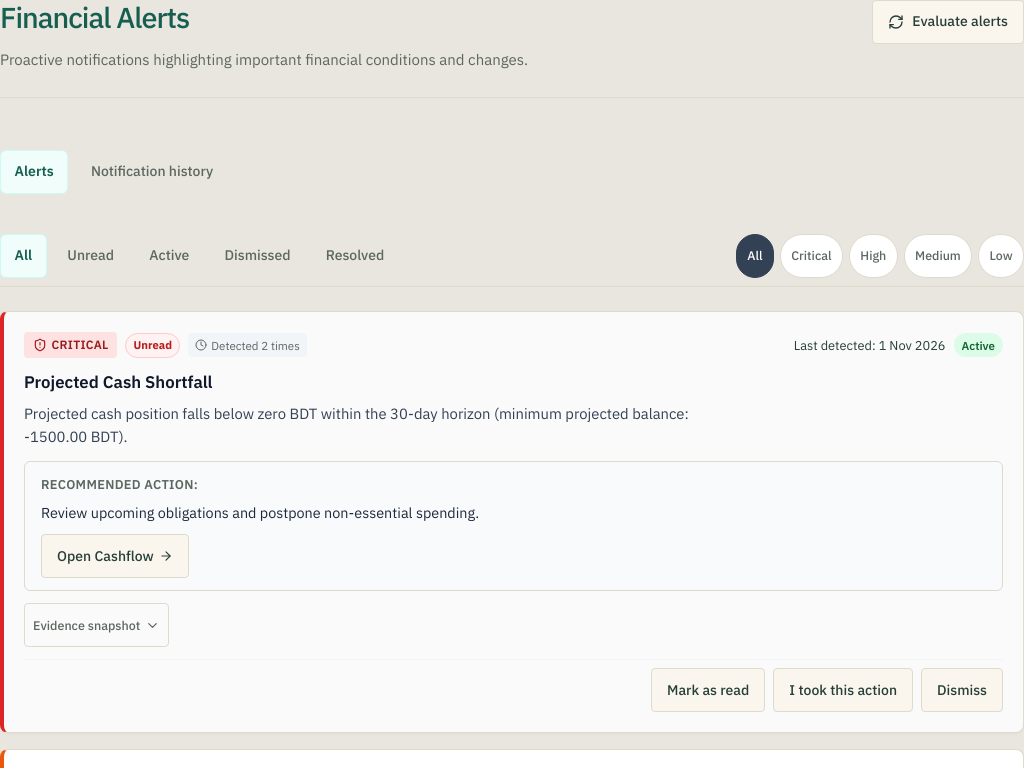
it: switches to notification history view and renders deliveries
Step 1. Click the button "Notification history" → (152, 172), box left=76, top=150, right=228, bottom=194
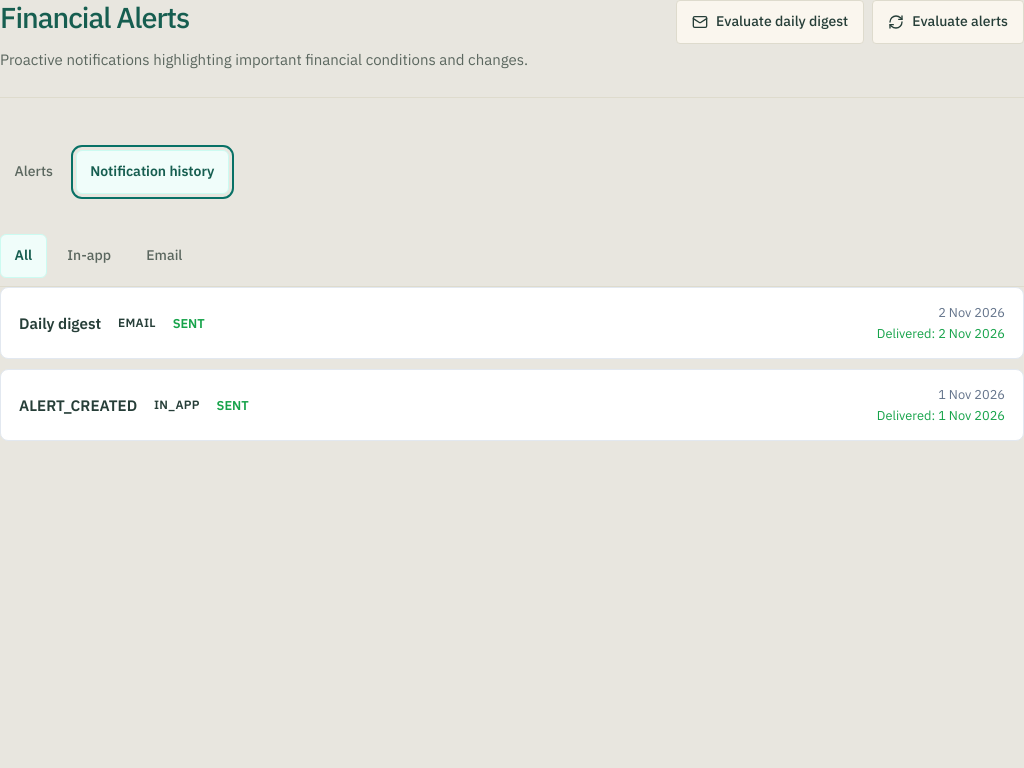
expect the text "Daily digest" is shown: met, box left=19, top=311, right=101, bottom=336
expect the text "ALERT_CREATED" is shown: met, box left=19, top=393, right=137, bottom=418
